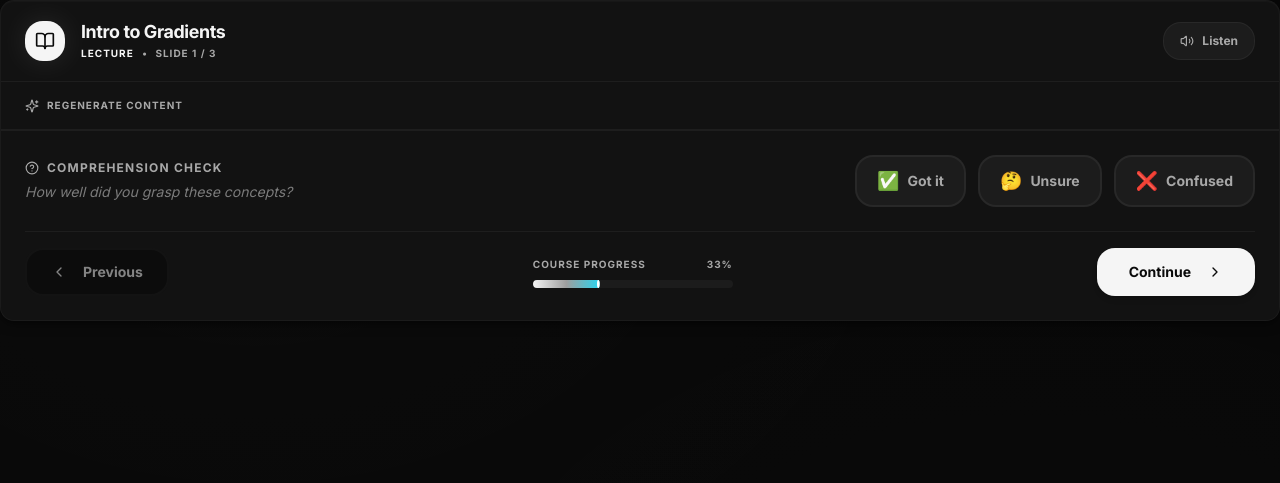
Test: SlideViewer — regenerate with feedback (Roadmap 5.2) › prefills the instruction input from a persisted regenInstruction
Step 1. Click the button with test id "regenerate-content-toggle" → click(104, 106), box [25,98,183,113]
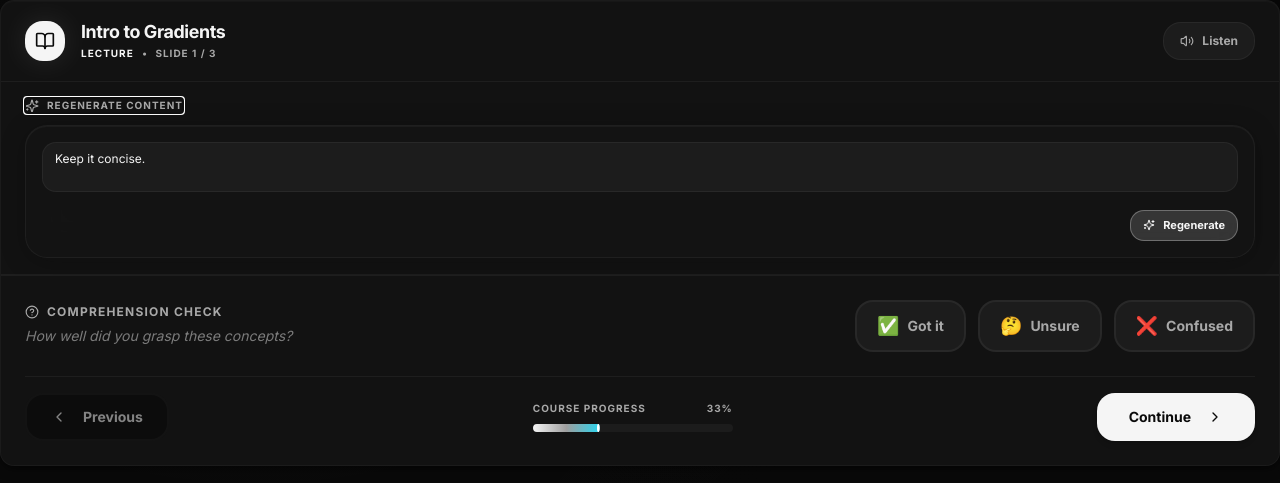
Expected: the text box with test id "regenerate-instruction-input" holds "Keep it concise.", [42,142,1238,192]
